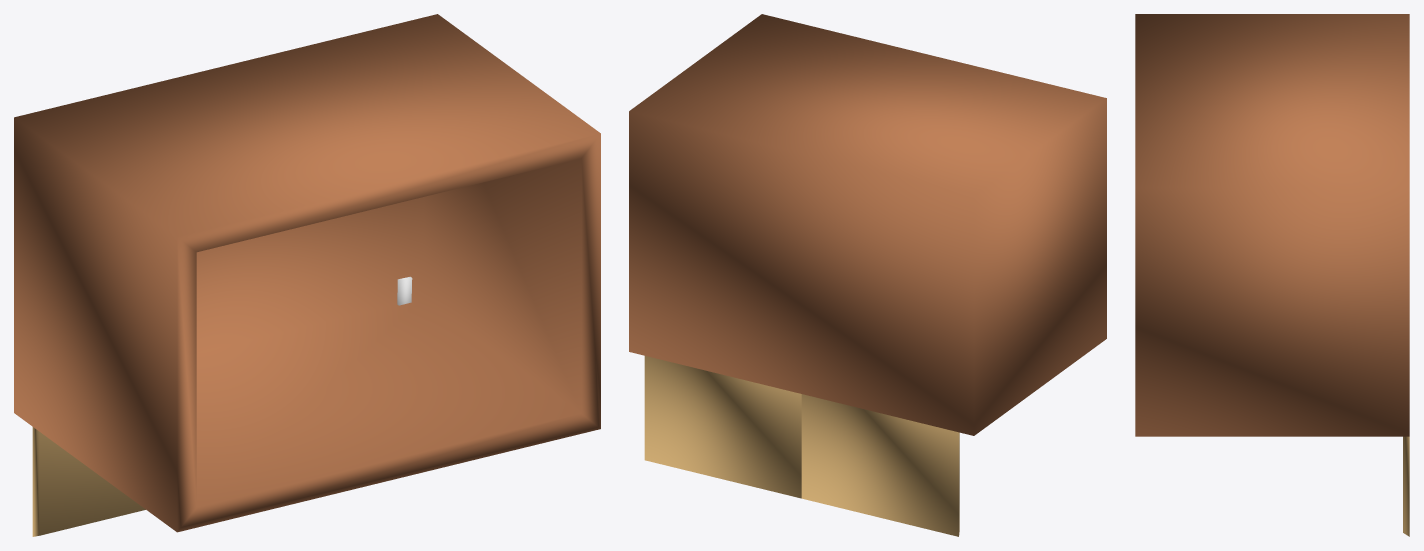
Rendered from 2Door.Upper.fbx.
3 views of the same model, side by side, from view 1: azimuth 30°, elevation 25°; view 2: azimuth 150°, elevation 25°; view 3: azimuth 270°, elevation 25° (orthographic). The views are drawn at different scales.
Visible parts, largest first — view 1: 2Door.Upper, 2Door.Upper.Door.L; view 2: 2Door.Upper, 2Door.Upper.Door.L, 2Door.Upper.Door.R; view 3: 2Door.Upper, 2Door.Upper.Door.R.
Boxes of the visible parts, x1,y1,x2,y2 form: 2Door.Upper: [14, 14, 600, 532]; 2Door.Upper.Door.L: [32, 427, 145, 536]; 2Door.Upper: [629, 14, 1106, 435]; 2Door.Upper.Door.L: [801, 394, 959, 536]; 2Door.Upper.Door.R: [644, 356, 801, 498]; 2Door.Upper: [1135, 14, 1409, 436]; 2Door.Upper.Door.R: [1403, 436, 1409, 536].
Bounding box in the file's own units: 133 × 127 × 88.64.
